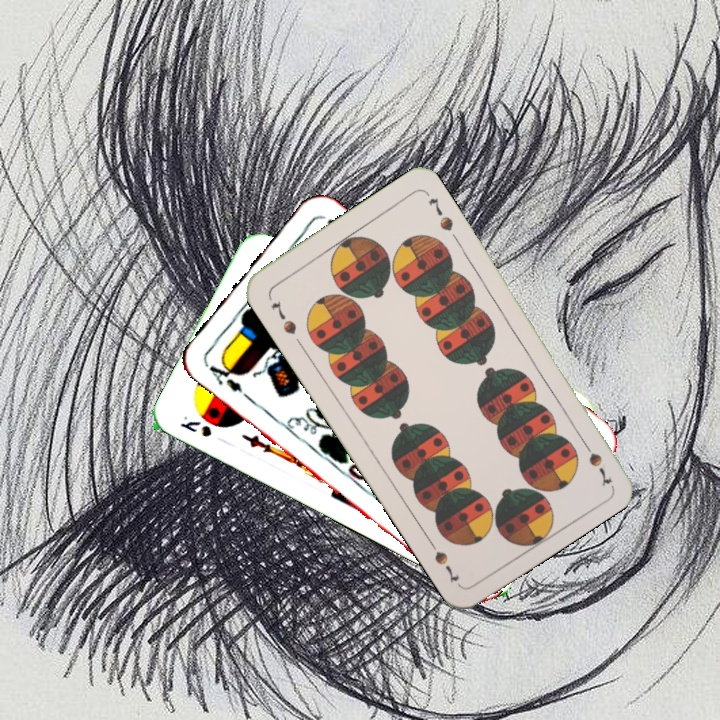EA: (201, 355, 245, 395)
S7: (576, 434, 616, 488), (266, 297, 300, 337)
SK: (176, 411, 215, 440)
